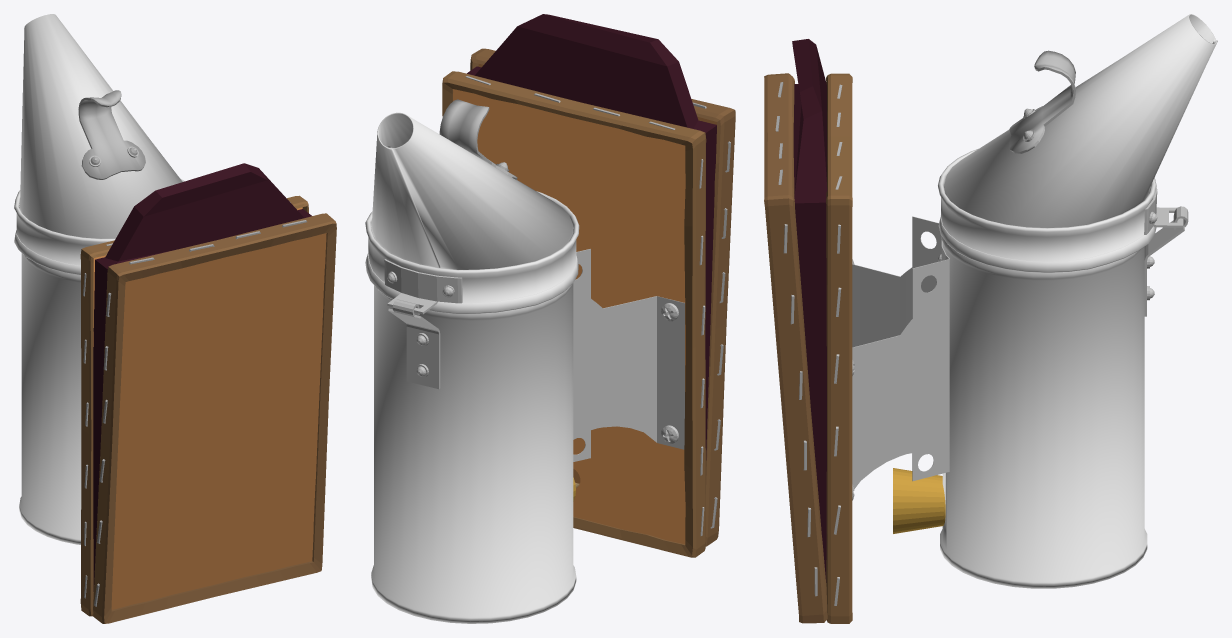
File: enfumoir_version_active.fbx
3 renders of one model, left to right at view 1: azimuth 30°, elevation 25°; view 2: azimuth 150°, elevation 25°; view 3: azimuth 270°, elevation 25°, orthographic. The views are drawn at different scales.
Visible parts, largest first — view 1: PlanchePompe.001, Tete, Reservoir, Cube, PlanchePompe, Embout_tete; view 2: Reservoir, PlanchePompe, Tete, Cube, Fixation_pompe, PlanchePompe.001, Fixation_corps, Fixation_tete, Embout_tete; view 3: Reservoir, Tete, Fixation_pompe, PlanchePompe.001, PlanchePompe, Cube, Embout_tete, Fixation_corps, Fixation_tete.
Boxes of the visible parts, x1=… form: PlanchePompe.001: x1=93, y1=213, x2=336, y2=623; Tete: x1=14, y1=14, x2=184, y2=274; Reservoir: x1=19, y1=253, x2=81, y2=544; Cube: x1=93, y1=163, x2=311, y2=591; PlanchePompe: x1=80, y1=195, x2=308, y2=616; Embout_tete: x1=78, y1=90, x2=145, y2=179; Reservoir: x1=371, y1=283, x2=576, y2=623; PlanchePompe: x1=442, y1=71, x2=706, y2=557; Tete: x1=365, y1=112, x2=579, y2=313; Cube: x1=467, y1=14, x2=716, y2=460; Fixation_pompe: x1=573, y1=249, x2=684, y2=461; PlanchePompe.001: x1=470, y1=48, x2=735, y2=546; Fixation_corps: x1=388, y1=299, x2=440, y2=389; Fixation_tete: x1=384, y1=259, x2=462, y2=314; Embout_tete: x1=439, y1=99, x2=517, y2=179; Reservoir: x1=893, y1=235, x2=1147, y2=588; Tete: x1=938, y1=14, x2=1217, y2=272; Fixation_pompe: x1=852, y1=216, x2=949, y2=500; PlanchePompe.001: x1=764, y1=73, x2=827, y2=623; PlanchePompe: x1=826, y1=73, x2=852, y2=623; Cube: x1=792, y1=39, x2=827, y2=582; Embout_tete: x1=1009, y1=50, x2=1075, y2=153; Fixation_corps: x1=1144, y1=206, x2=1188, y2=316; Fixation_tete: x1=1144, y1=187, x2=1183, y2=234.
Size of the model in its own units: 12.82 by 25.48 by 19.16.
